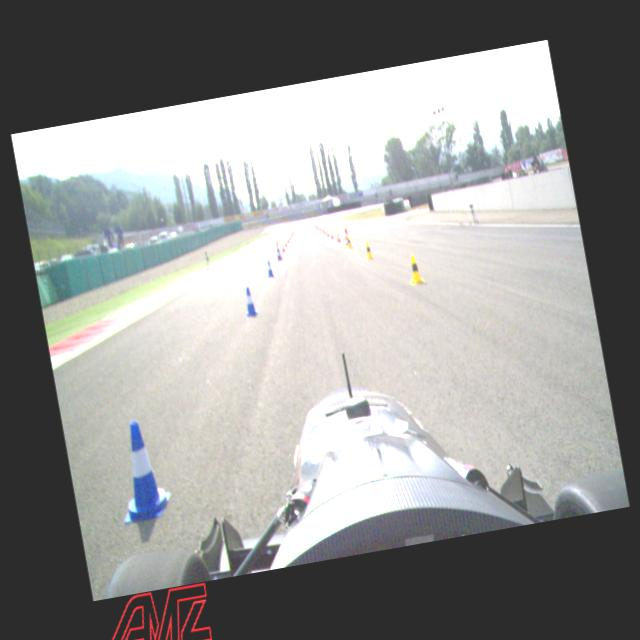blue_cone: (241, 284, 259, 318), (264, 258, 274, 278), (274, 248, 282, 261)
large_orange_cone: (306, 221, 310, 227), (298, 222, 301, 228), (293, 223, 296, 229), (312, 220, 314, 226), (302, 222, 304, 228)
orange_cone: (341, 227, 352, 248), (272, 240, 282, 260), (280, 242, 286, 252), (282, 238, 288, 247), (336, 232, 340, 242), (329, 230, 334, 238), (322, 227, 327, 234), (285, 236, 290, 243), (326, 229, 330, 236), (288, 233, 292, 240), (318, 224, 322, 230), (321, 226, 324, 232), (290, 232, 293, 238), (318, 224, 320, 230), (290, 230, 292, 234)
yellow_cone: (404, 252, 424, 286), (362, 240, 373, 260), (345, 234, 353, 248)
